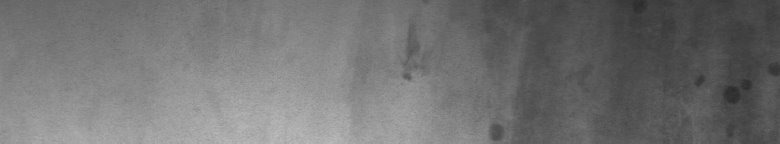fi: (636, 4, 776, 136)
